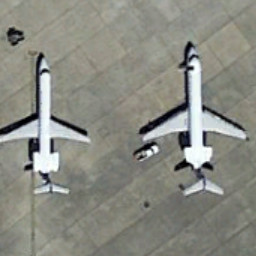Airplane: (134, 31, 252, 212), (1, 40, 94, 212)
